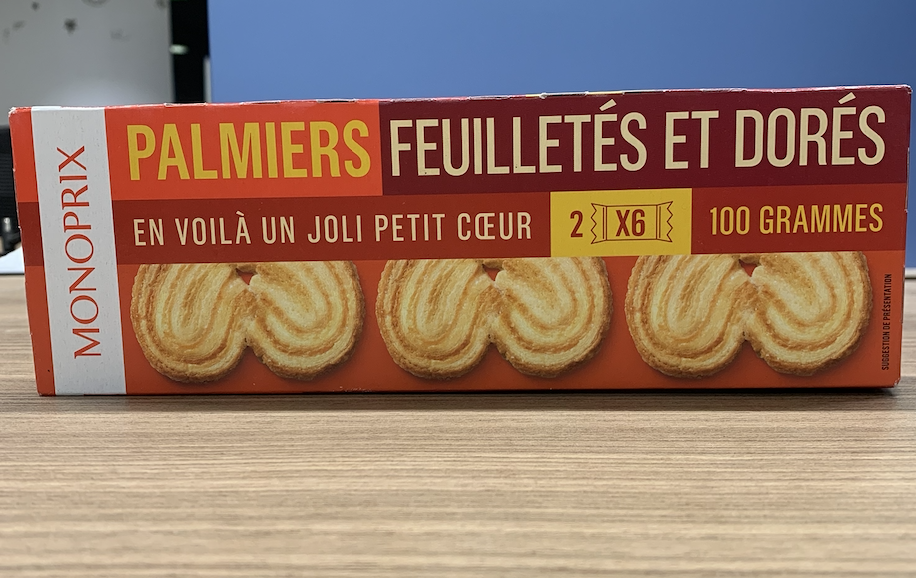cookies_150g: (25, 107, 899, 386)
